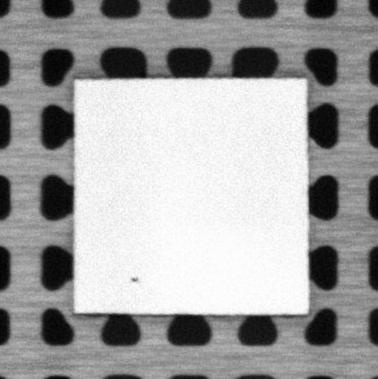DIE_INK: (128, 274, 140, 283)
